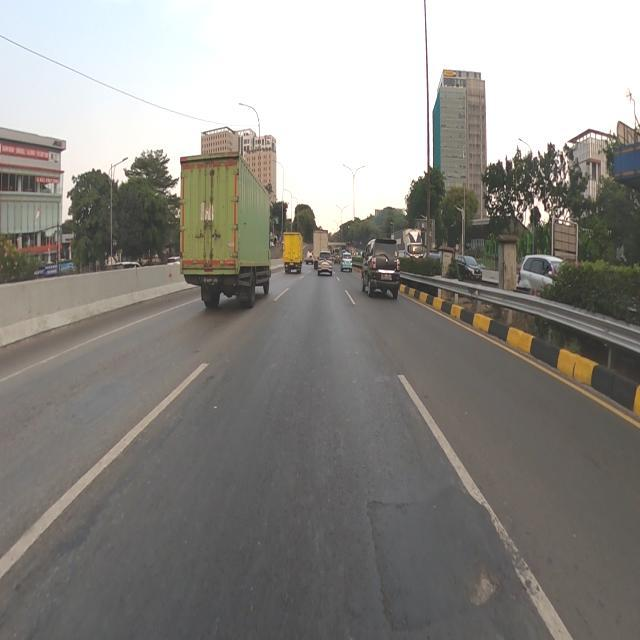Buraco: (462, 559, 507, 610)
